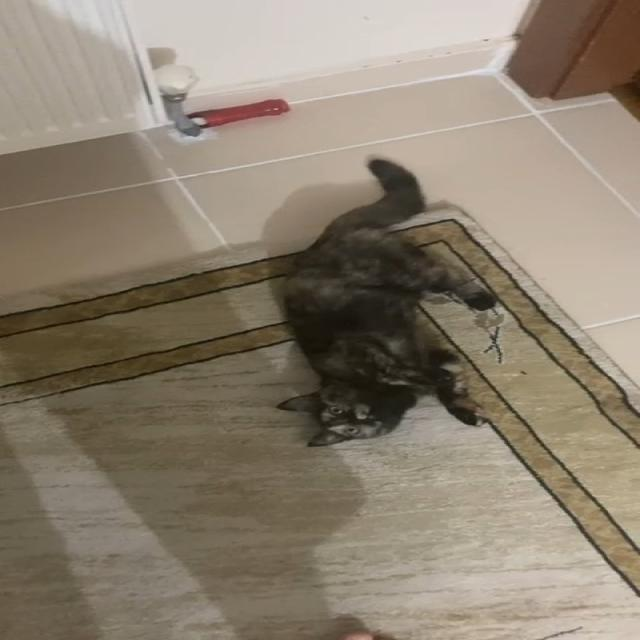authorized: (271, 156, 498, 446)
